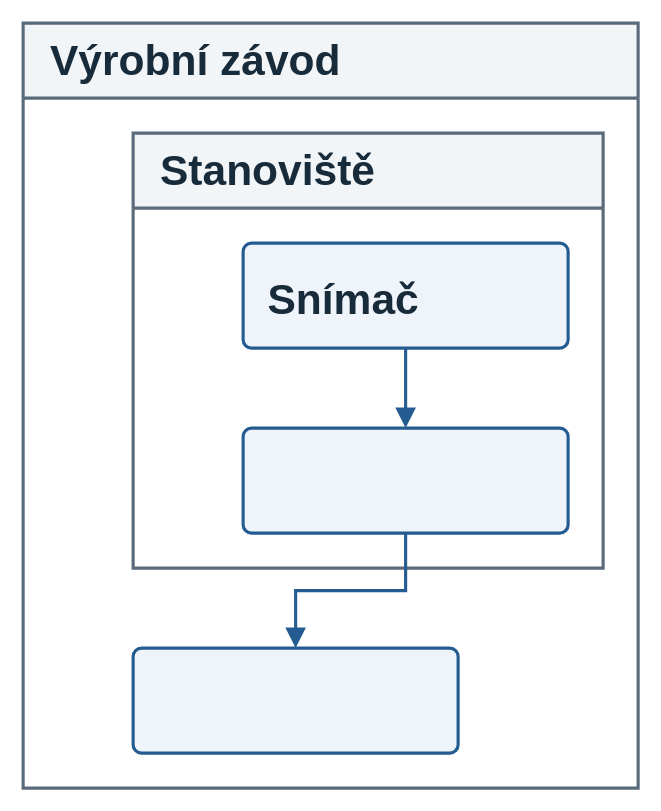
The diagram is 661 pixels wide and 811 high, and some of its shapes have lost their labels. Each missing label, with the centre of its shape:
Server: [295,700]
Vyhodnocení: [405,480]
